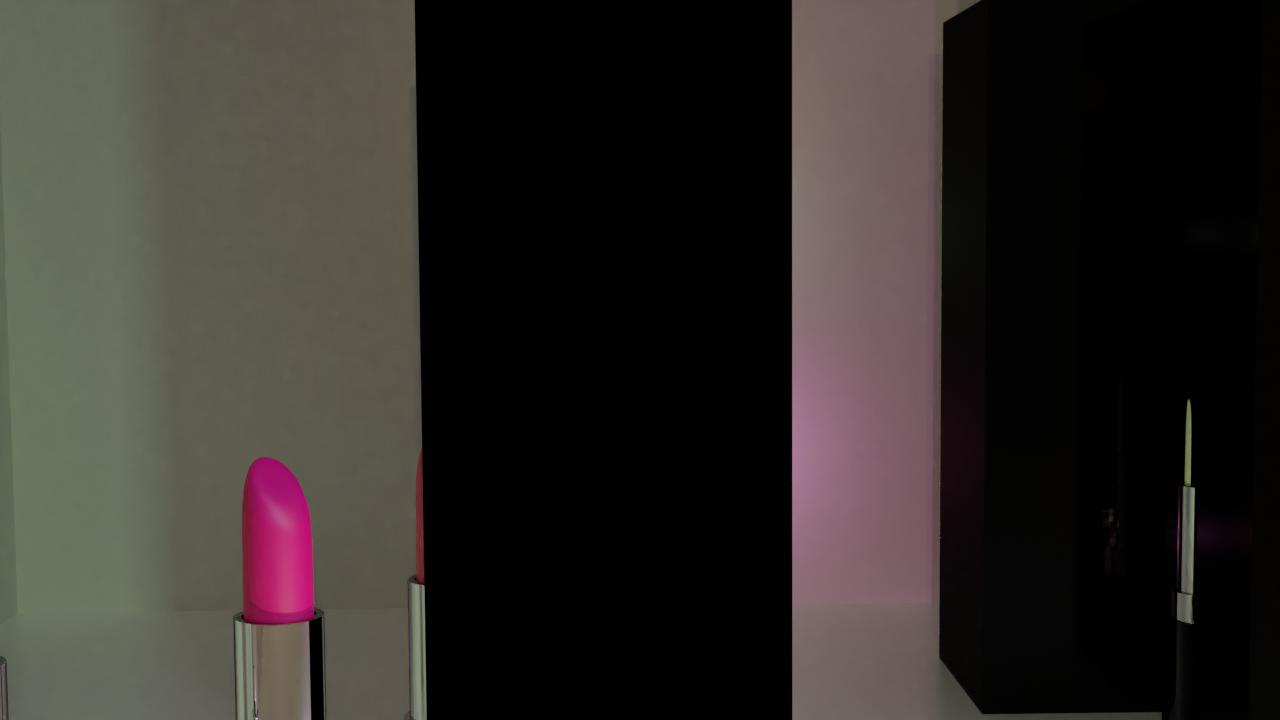CLASSIFIER_NAME: (228, 450, 341, 720), (0, 480, 31, 720)
